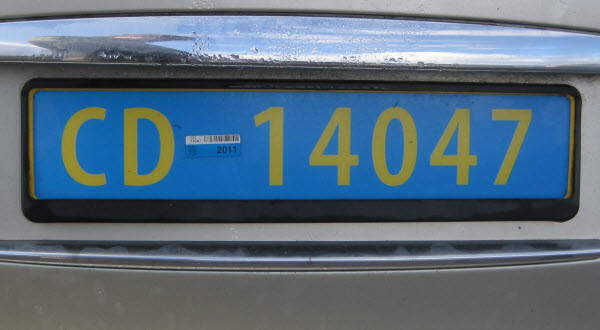license_plate: (29, 86, 576, 203)
